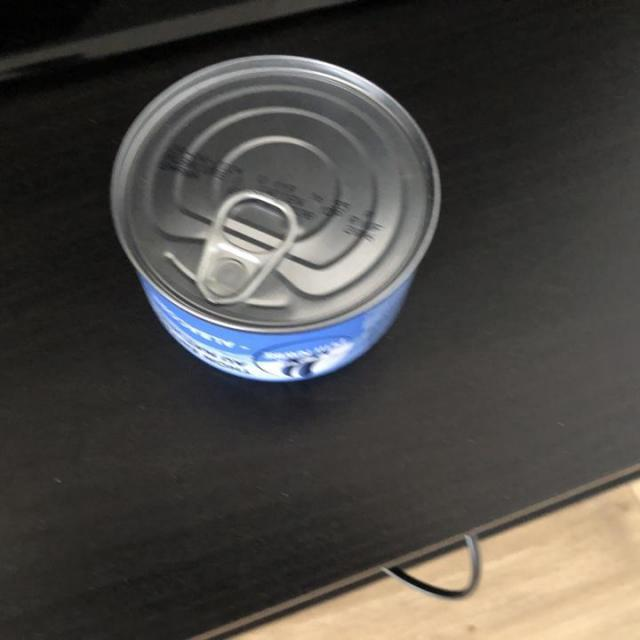metal-can: (105, 50, 443, 388)
